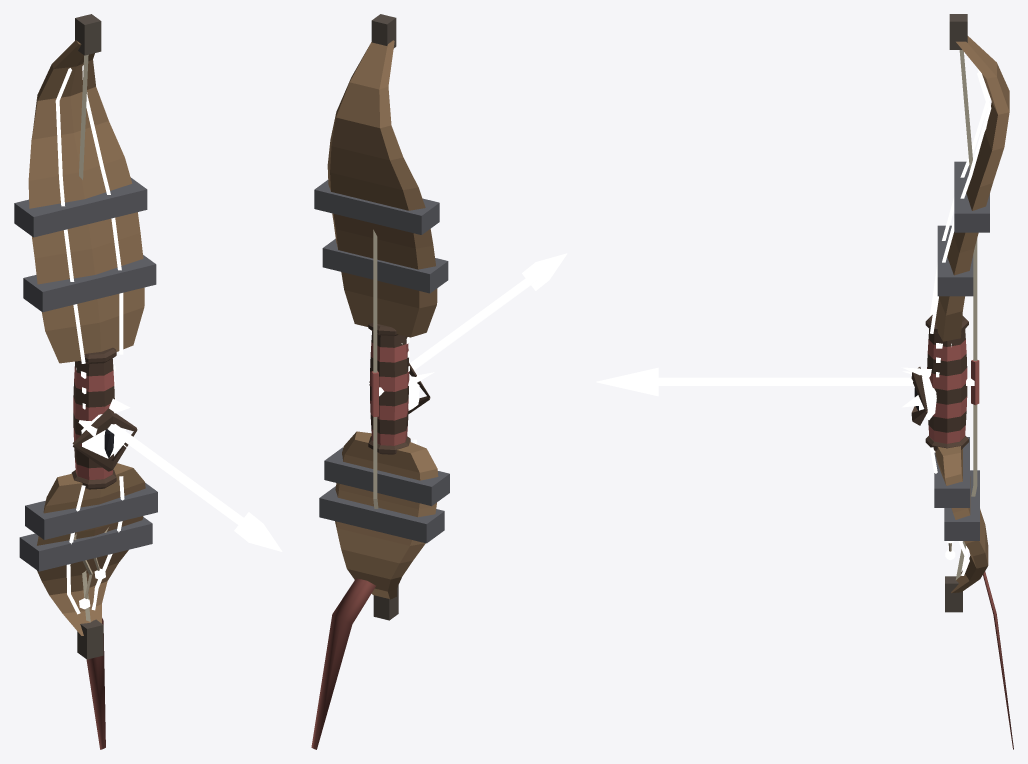
File: bow-over-the-shoulder.glb
3 views of the same model, side by side, from view 1: azimuth 30°, elevation 25°; view 2: azimuth 150°, elevation 25°; view 3: azimuth 270°, elevation 25° (orthographic). The views are drawn at different scales.
Parts seen in each view (by area): view 1: bow-over-the-shoulder, pulse_vein, pulse_arrow, blink_eye, string; view 2: bow-over-the-shoulder, pulse_arrow, string, blink_eye; view 3: bow-over-the-shoulder, pulse_arrow, string, pulse_vein, blink_eye.
Boxes of the visible parts, x1,y1,x2,y2 form: bow-over-the-shoulder: [14, 14, 157, 749]; pulse_vein: [55, 65, 124, 614]; pulse_arrow: [78, 398, 282, 551]; blink_eye: [72, 408, 137, 471]; string: [79, 54, 90, 622]; bow-over-the-shoulder: [311, 14, 449, 749]; pulse_arrow: [379, 253, 567, 396]; string: [371, 229, 378, 508]; blink_eye: [369, 363, 430, 413]; bow-over-the-shoulder: [925, 14, 1013, 749]; pulse_arrow: [596, 367, 974, 407]; string: [955, 50, 979, 579]; pulse_vein: [930, 68, 991, 575]; blink_eye: [911, 367, 936, 425].
Bounding box in the file's own units: 0.233 × 1.49 × 0.7946.
